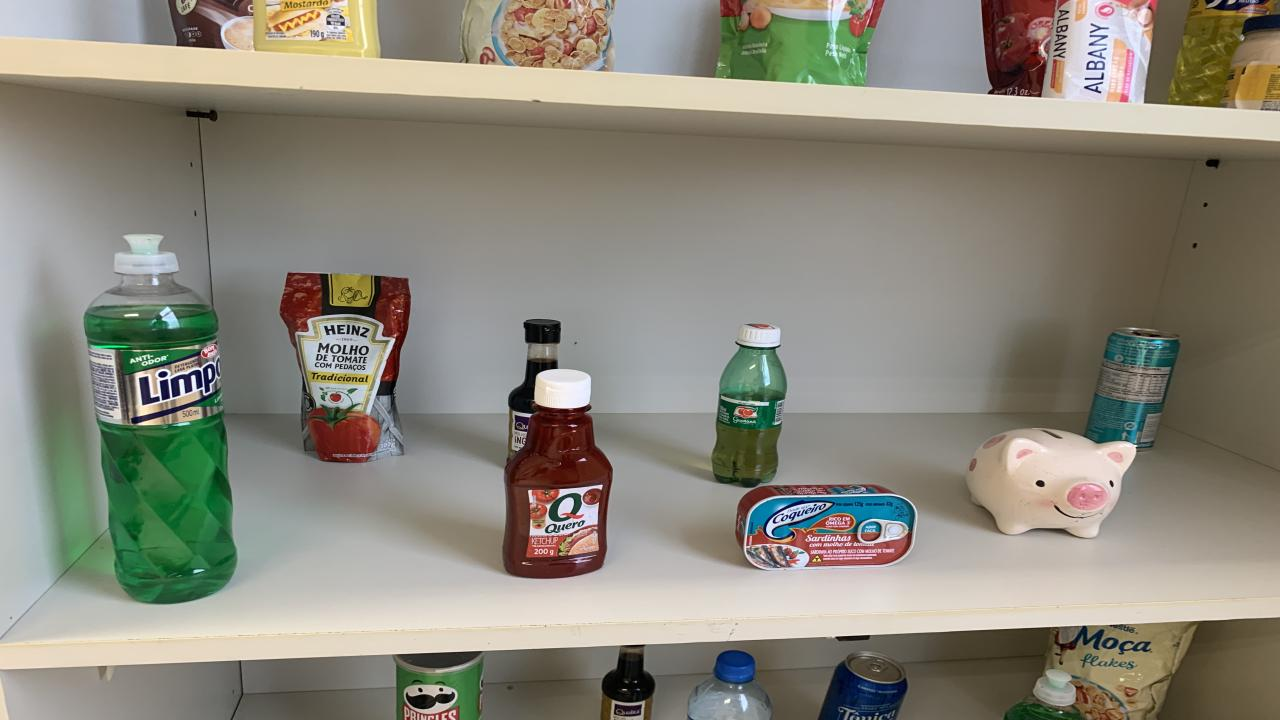Coffee-Pantry_Items: (168, 0, 255, 51)
Detergent-Cleanup_Items: (85, 234, 238, 604), (1168, 0, 1275, 107), (1005, 669, 1085, 720)
English_Sauce-Pantry_Items: (508, 319, 560, 458), (600, 645, 655, 720)
Flakes-Snacks: (1045, 622, 1198, 720), (460, 0, 615, 71)
Guarana-Drinks: (712, 324, 788, 488)
Ketchup-Pantry_Items: (502, 369, 612, 578)
Mayonnaise-Pantry_Items: (1220, 15, 1280, 111)
Mustard-Pantry_Items: (252, 0, 380, 58)
Pig_Safe-Miscellaneous: (968, 428, 1138, 538)
Pringles-Snacks: (392, 651, 485, 720)
Soap-Cleanup_Items: (1042, 0, 1158, 103)
Tea-Drinks: (1085, 328, 1180, 450)
Tomato_Sauce-Pantry_Items: (280, 272, 410, 463), (715, 0, 885, 86), (980, 0, 1055, 98)
Tonic-Drinks: (818, 651, 908, 720)
Tuna_Can-Pantry_Items: (735, 484, 918, 570)
Water_Bottle-Drinks: (688, 651, 772, 720)
